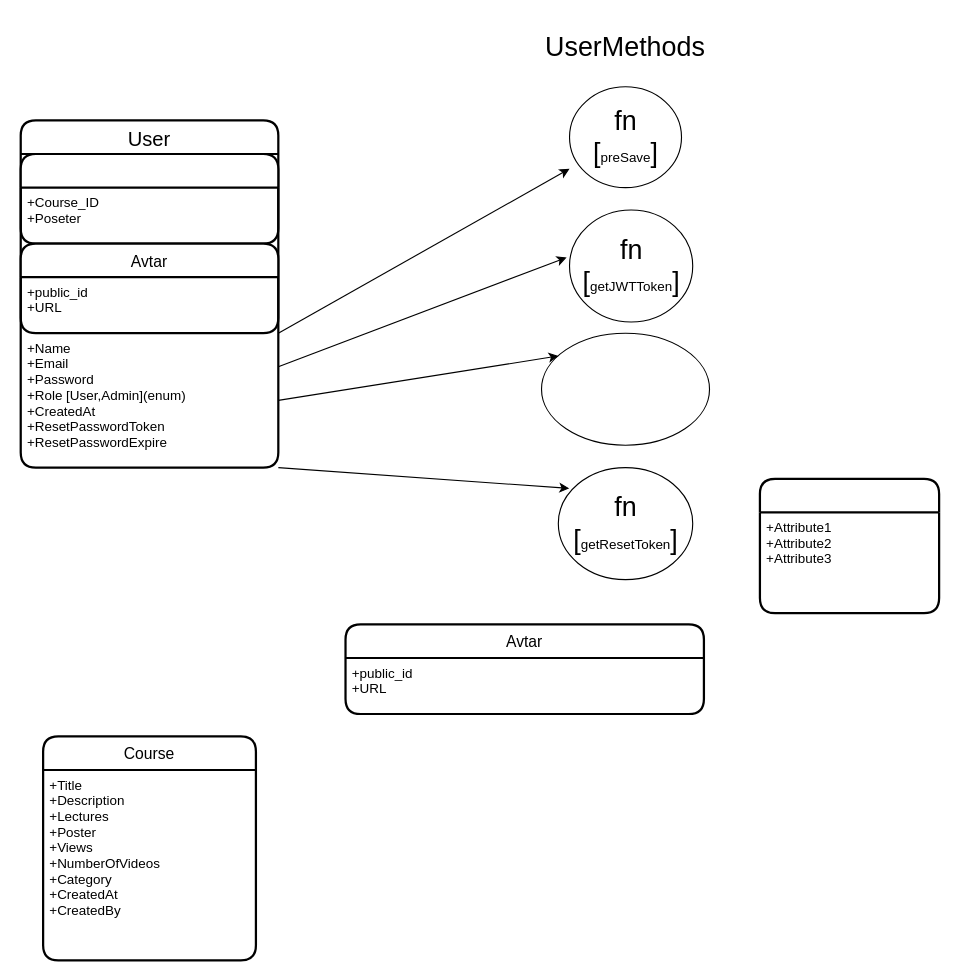
This 959x980 diagram has some shape labels left out. The shapes that lost their labels are listed below. From the top down, each one's box as (x1, y1, x2, y2) in pixels, then its label:
(19, 152, 279, 244): Playlist
(540, 332, 710, 445): fn [ comaparePassword ]
(758, 477, 940, 614): Entity
